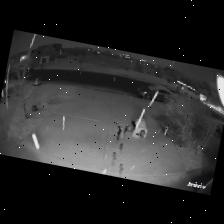person: (131, 119, 146, 137)
